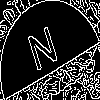N: (25, 25, 63, 82)
